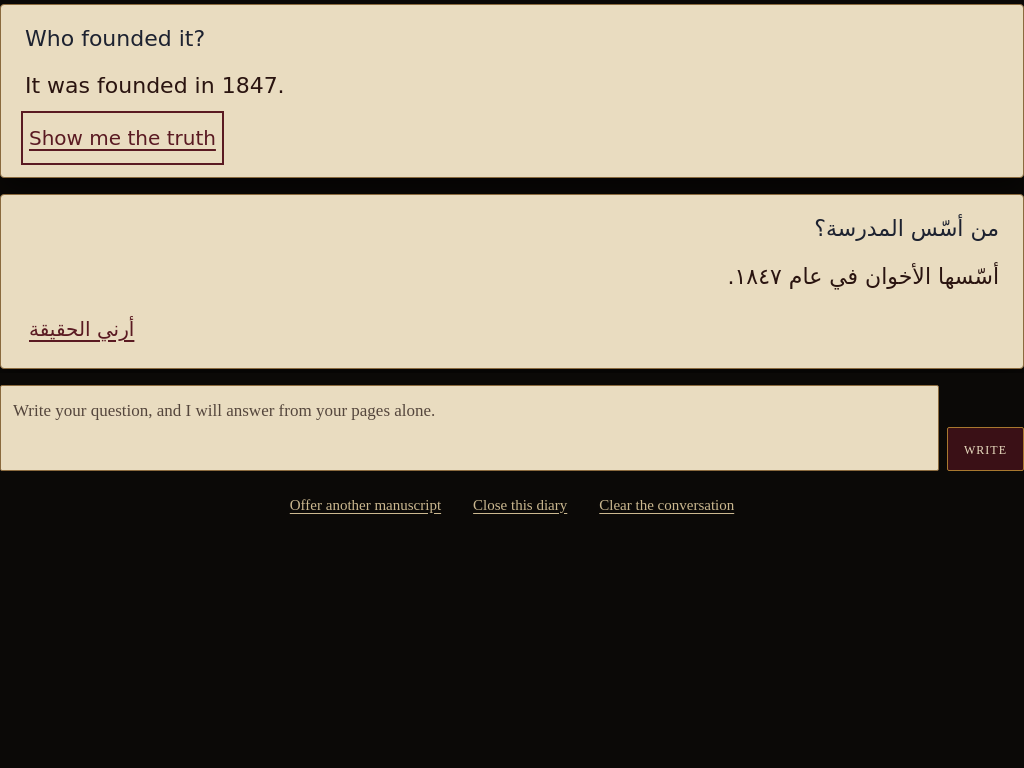
Test case: the conversation › shows the cited page with its passage when "Show me the truth" is pressed, and gives the focus back
Step 1. Click the button "Show me the truth" → x=122, y=138, box [25,115,220,161]
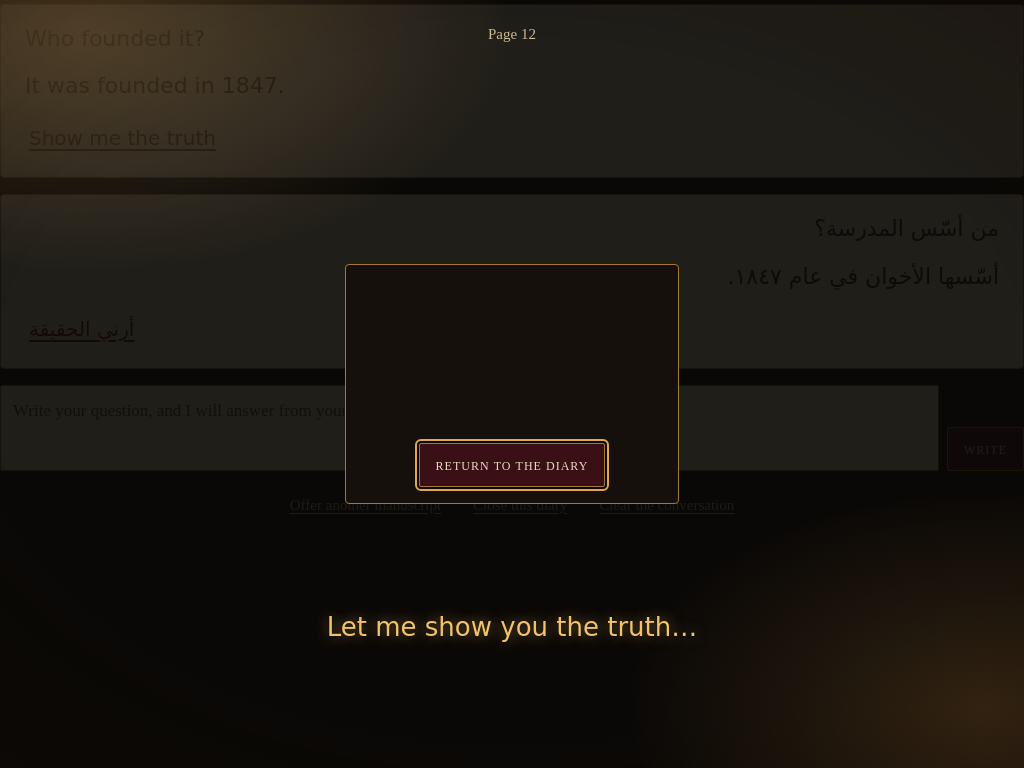
// the focus stays inside
Step 2. Press Tab
Step 3. Press Escape
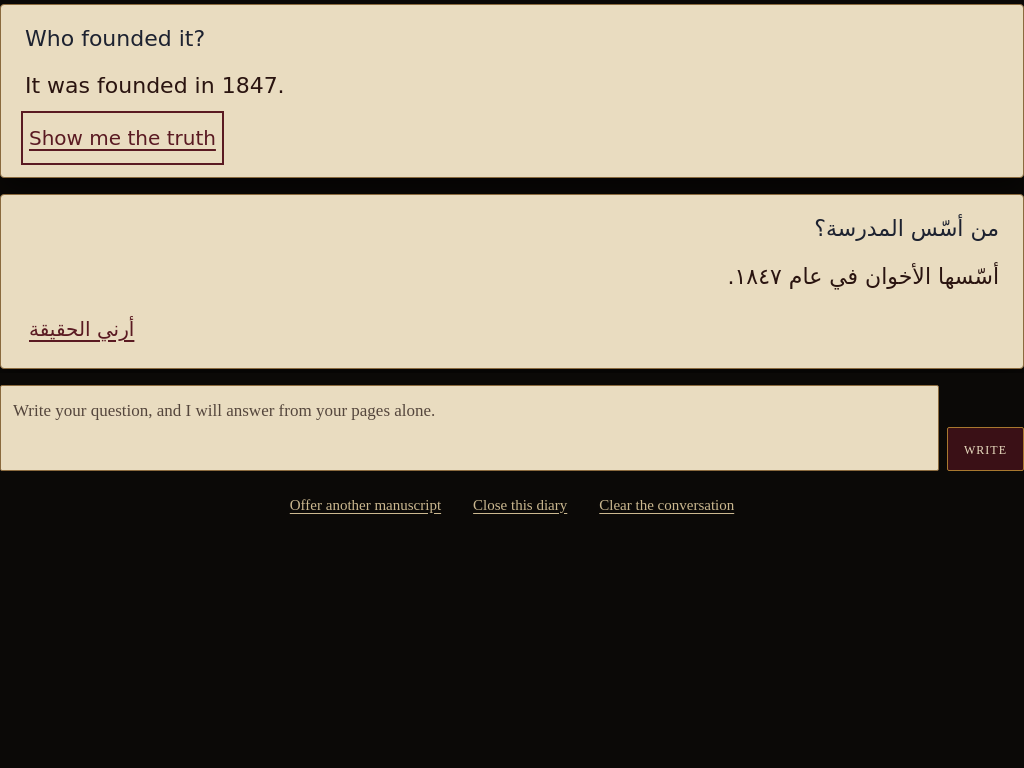
Expected: the dialog is gone
